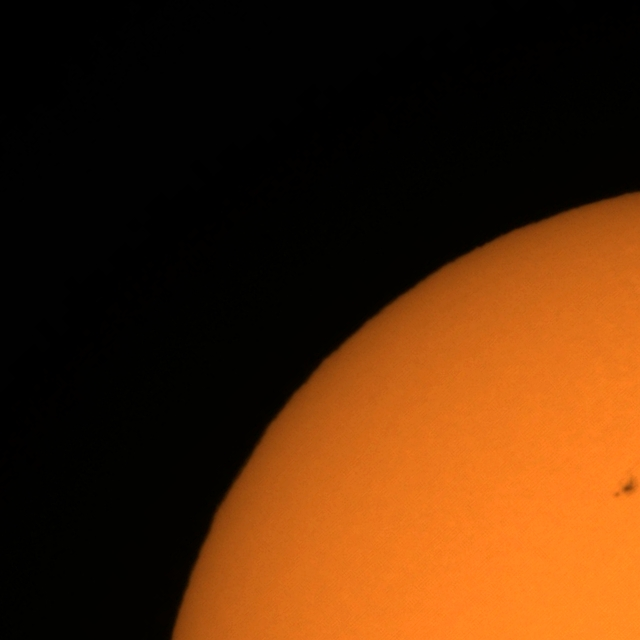sunspot: (612, 475, 640, 500)
